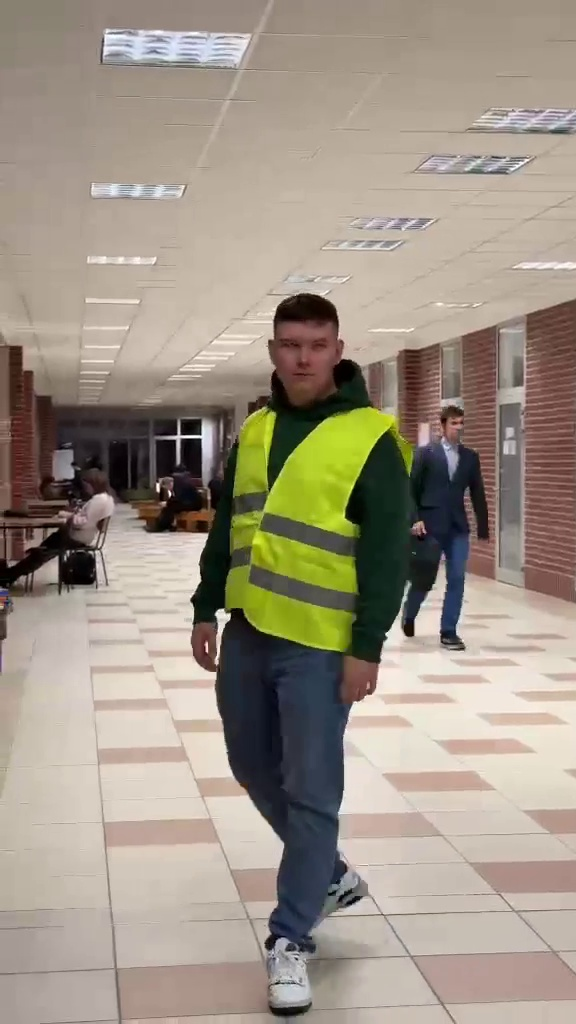no vest: (405, 400, 505, 662), (10, 448, 132, 601)
vest: (189, 285, 403, 1007)
